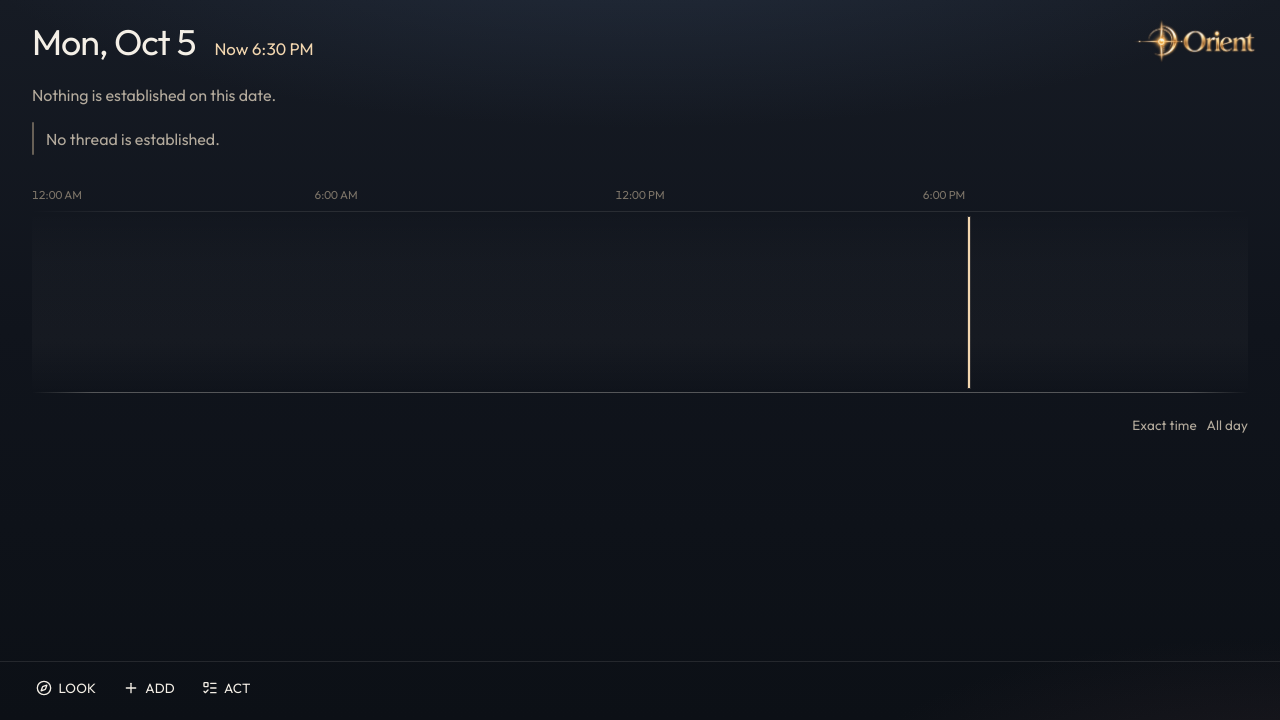
Test: viewpoint provenance › keeps follows Today across midnight and does not rewrite the anchor or the provenance
The image size is (1280, 720).
Click the button "LOOK".
click(66, 688)  # box x1=24 y1=668 x2=108 y2=708
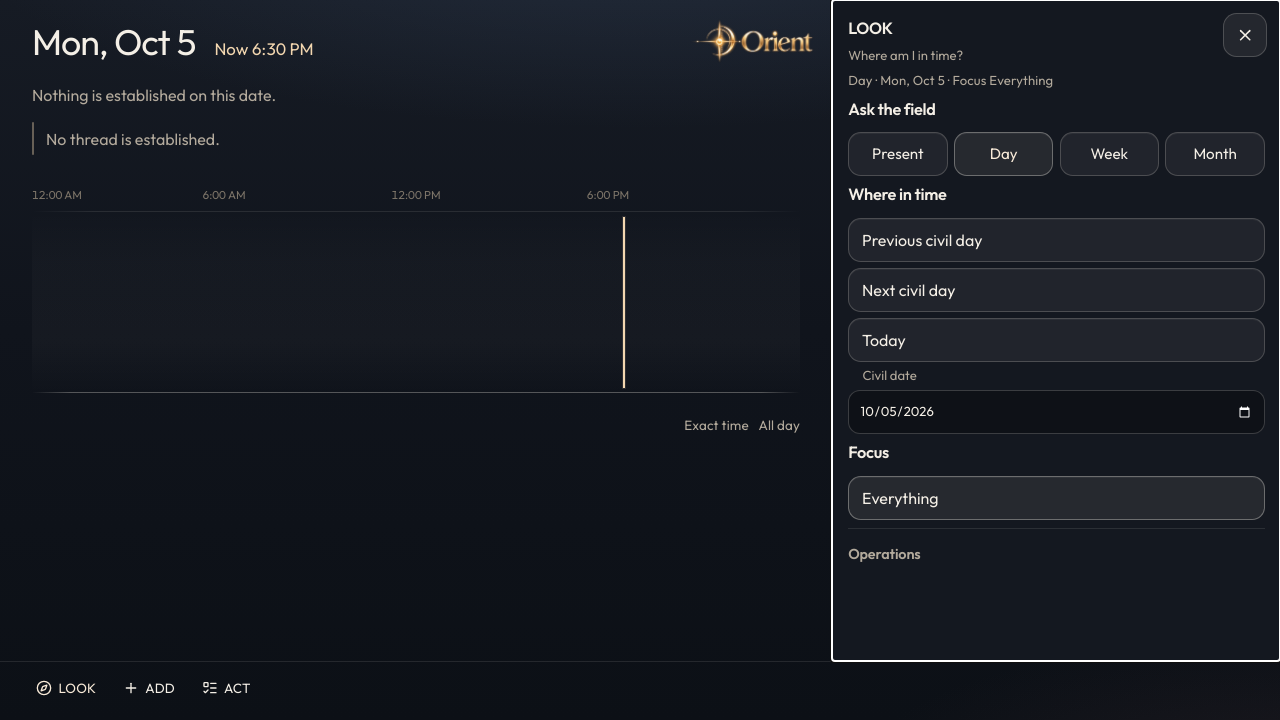
Click the button "Day".
click(1004, 154)  # box x1=954 y1=132 x2=1053 y2=176
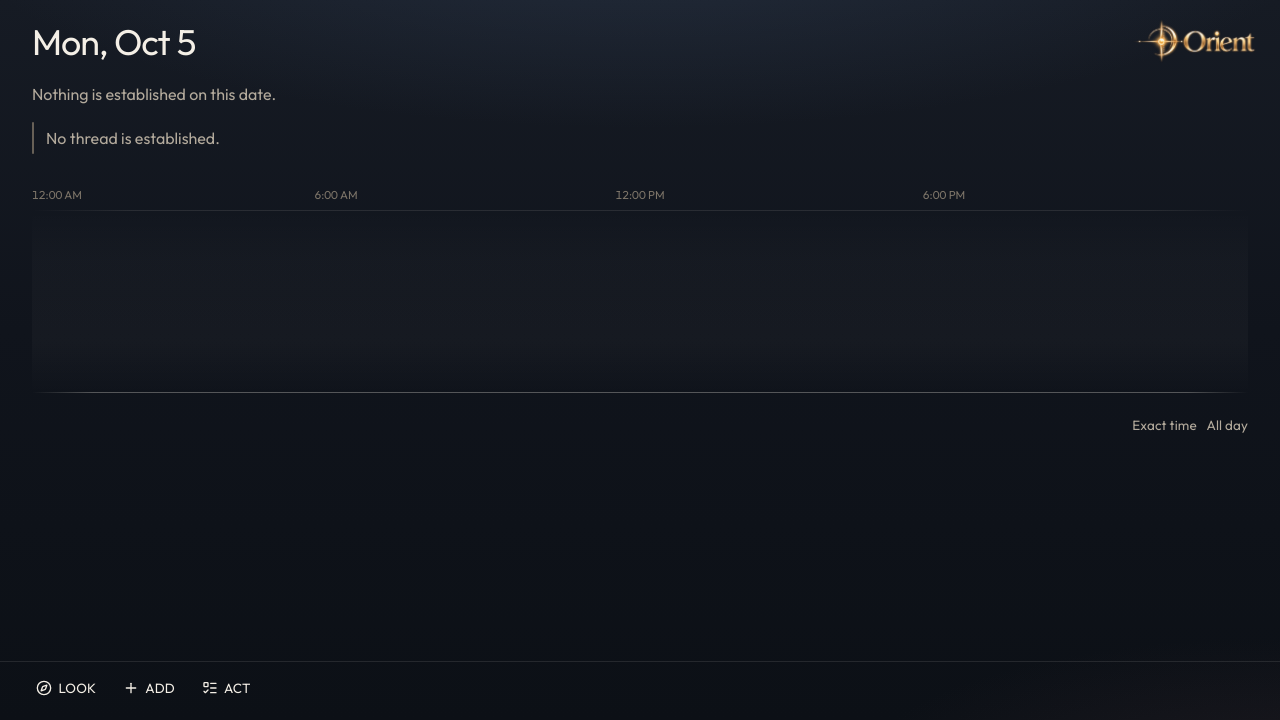
Expected: the element showing "Mon, Oct 5" is shown, x1=32 y1=19 x2=196 y2=64
Result: the text with class "orient-desktop-now-quiet" is gone
